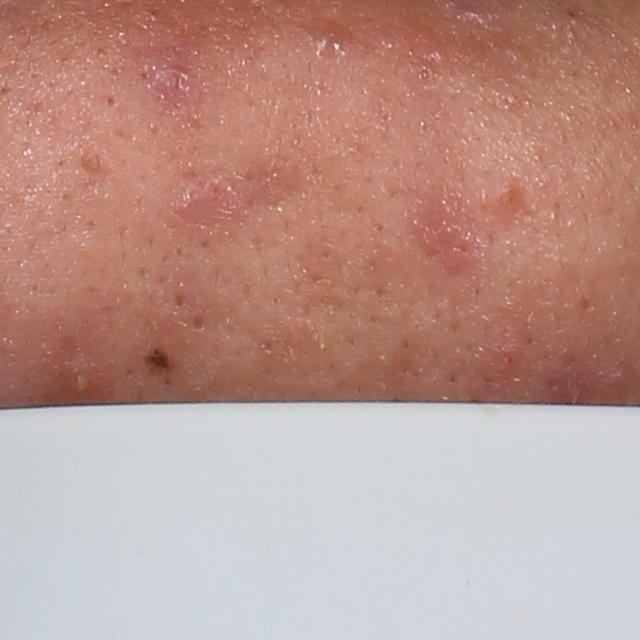comedo: (85, 153, 103, 172)
papule: (425, 210, 478, 267), (492, 181, 520, 218)
